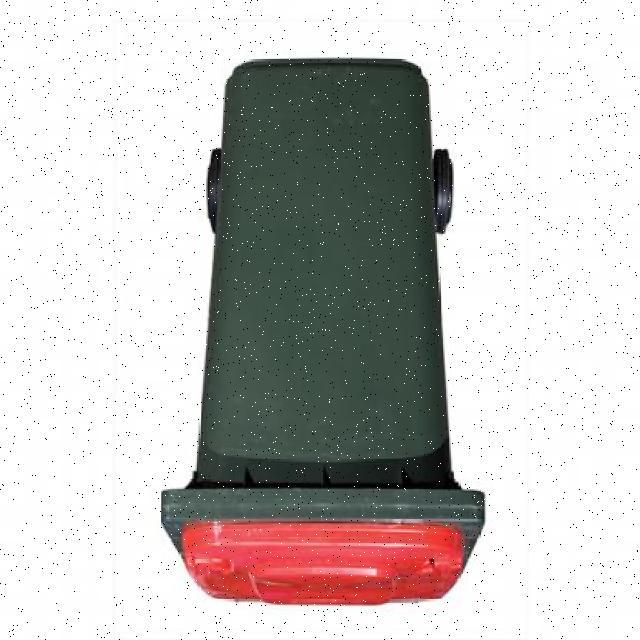garbage container: (146, 26, 494, 619)
